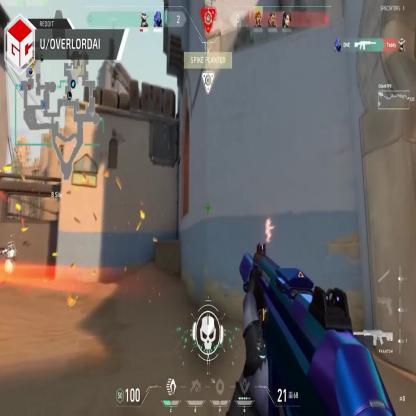enemy: (264, 216, 274, 244)
enemy_head: (266, 218, 270, 225)
